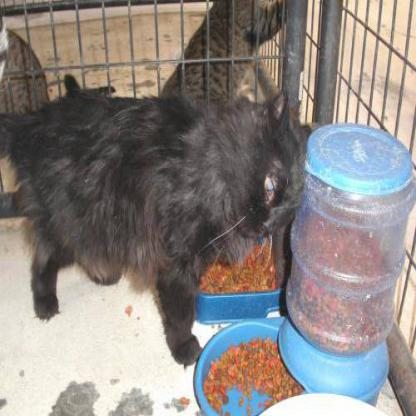cat: (15, 59, 322, 340)
